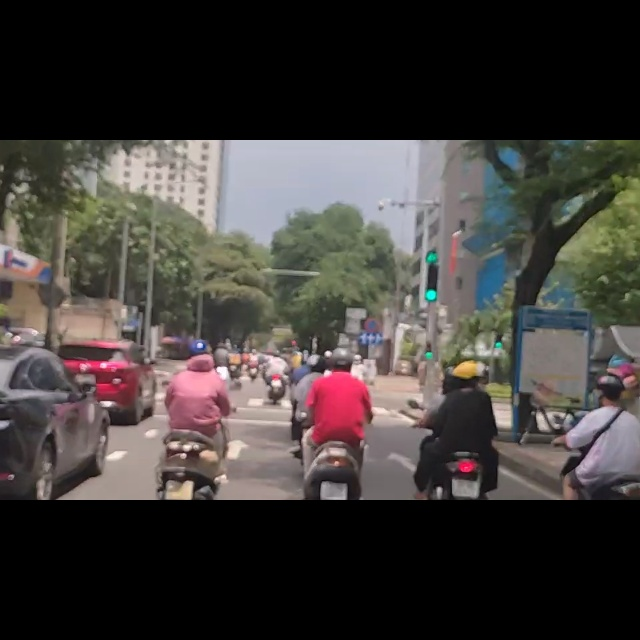bien_chi_dan: (364, 317, 380, 345)
